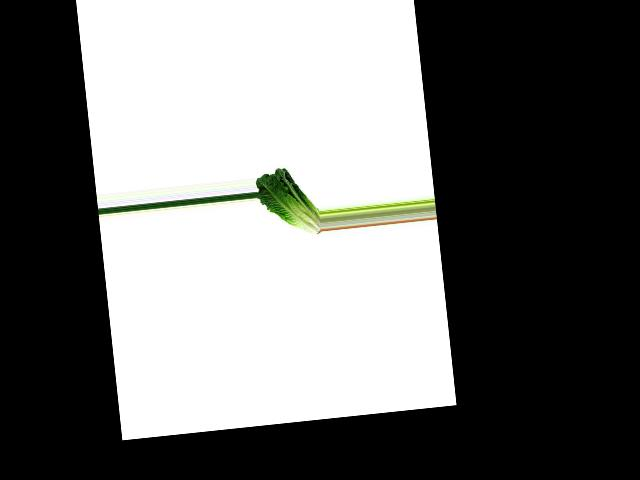lettuce: (254, 163, 321, 240)
